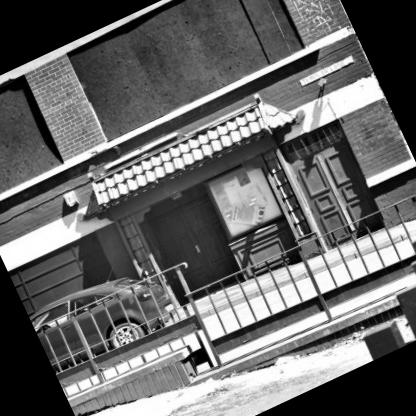car: (25, 241, 208, 397)
